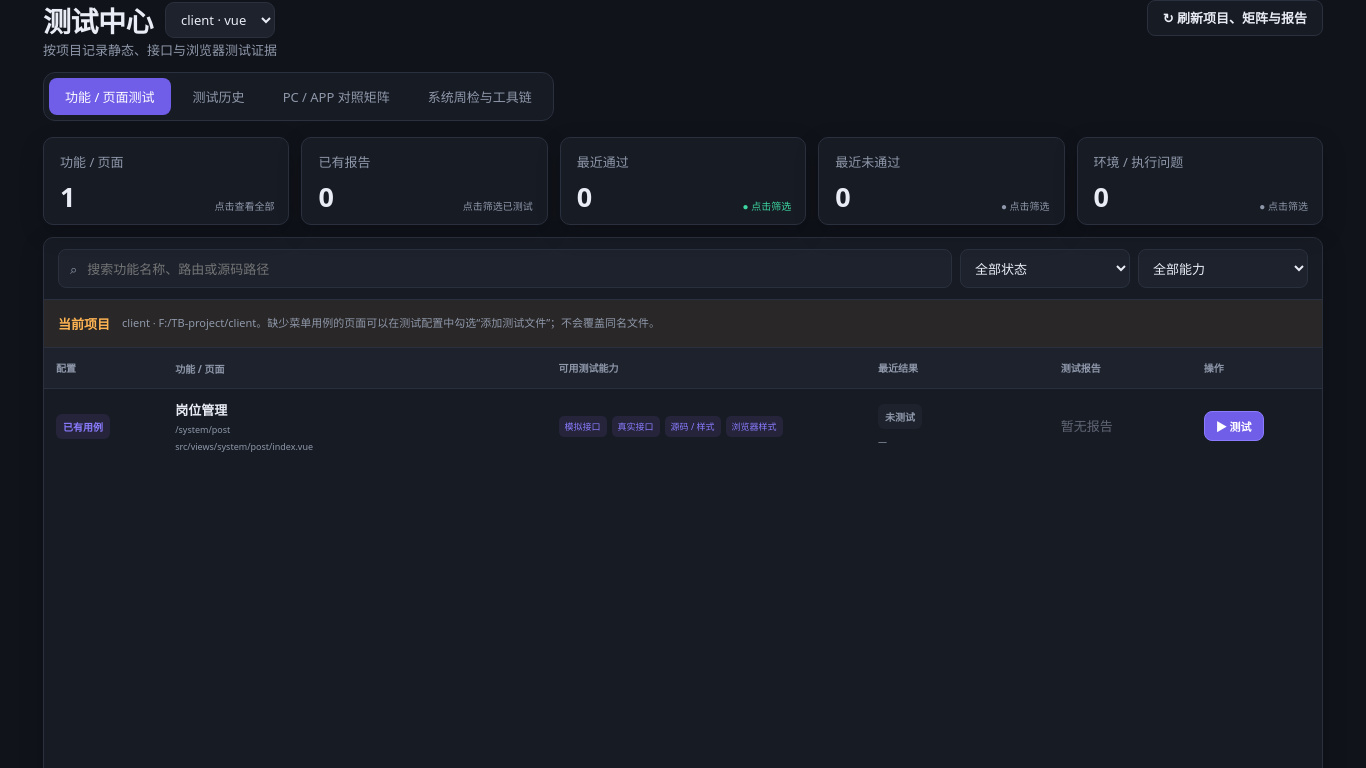
Test: TestingView 专属用例后台生成 › 点击生成后立即关闭弹框，页面仍可继续操作
The width and height of the screenshot is (1366, 768).
Click the button "▶ 测试" at coordinates (1234, 426), box [1204,411,1264,441]
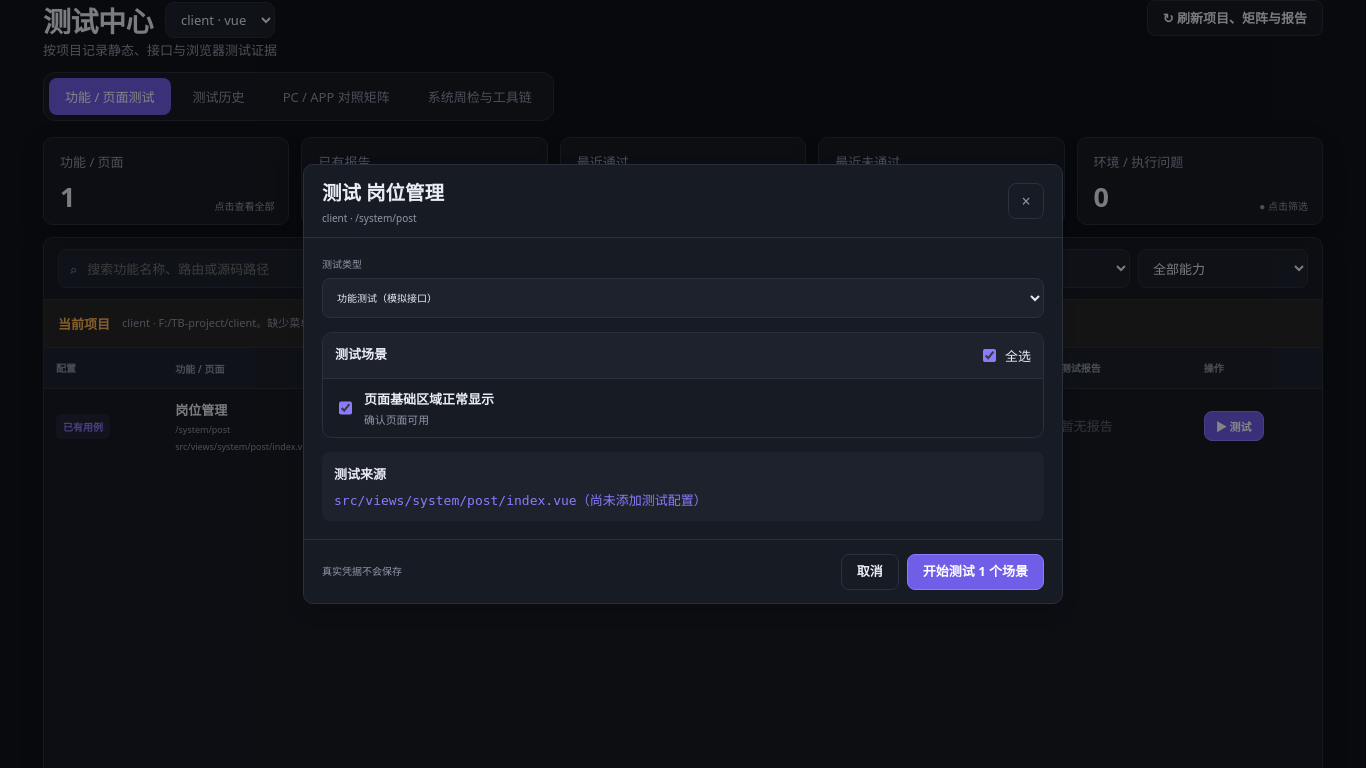
Select "功能测试（真实接口）" in the dropdown labelled "测试类型" at coordinates (683, 298), box [322,278,1044,318]
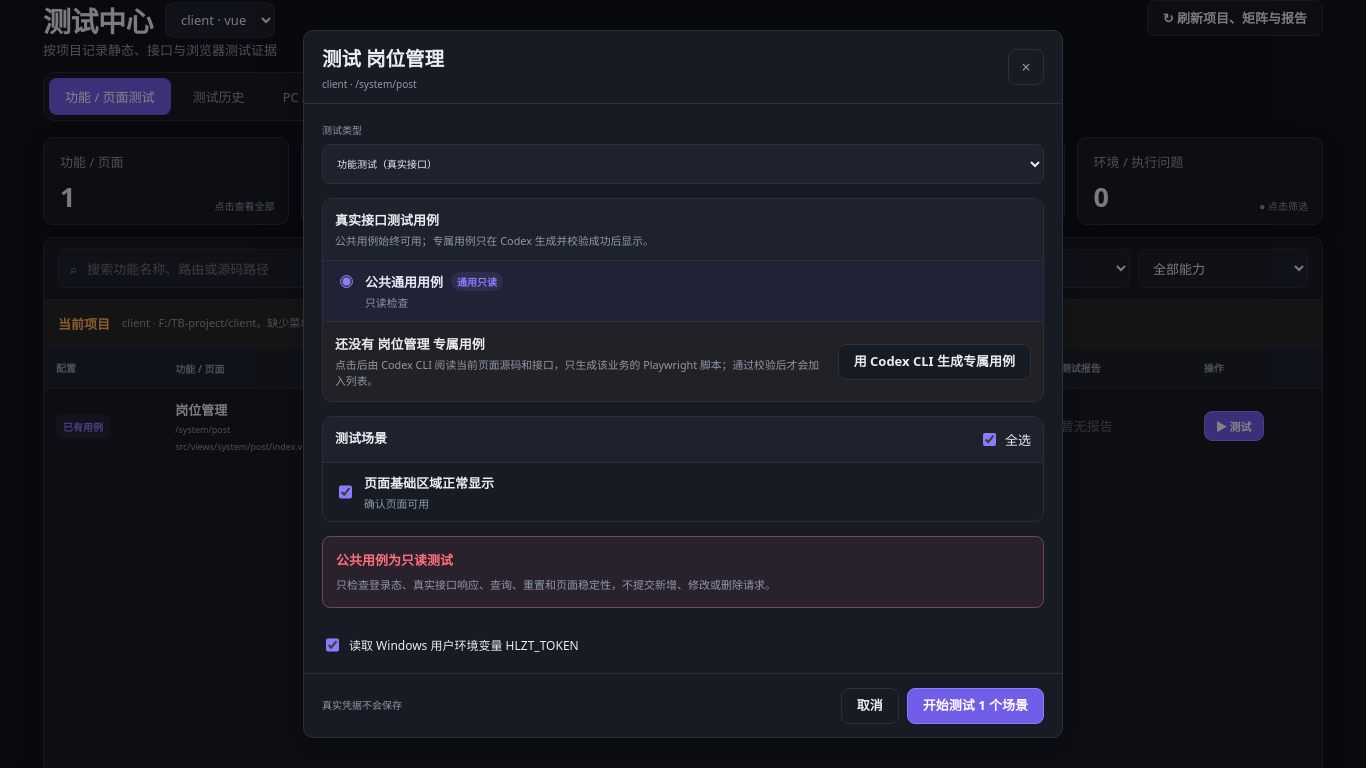
Now the element with class "dedicated-case-empty" is shown, box [323,321,1043,401]
Click the button "用 Codex CLI 生成专属用例" at coordinates (934, 362), box [838,344,1031,380]
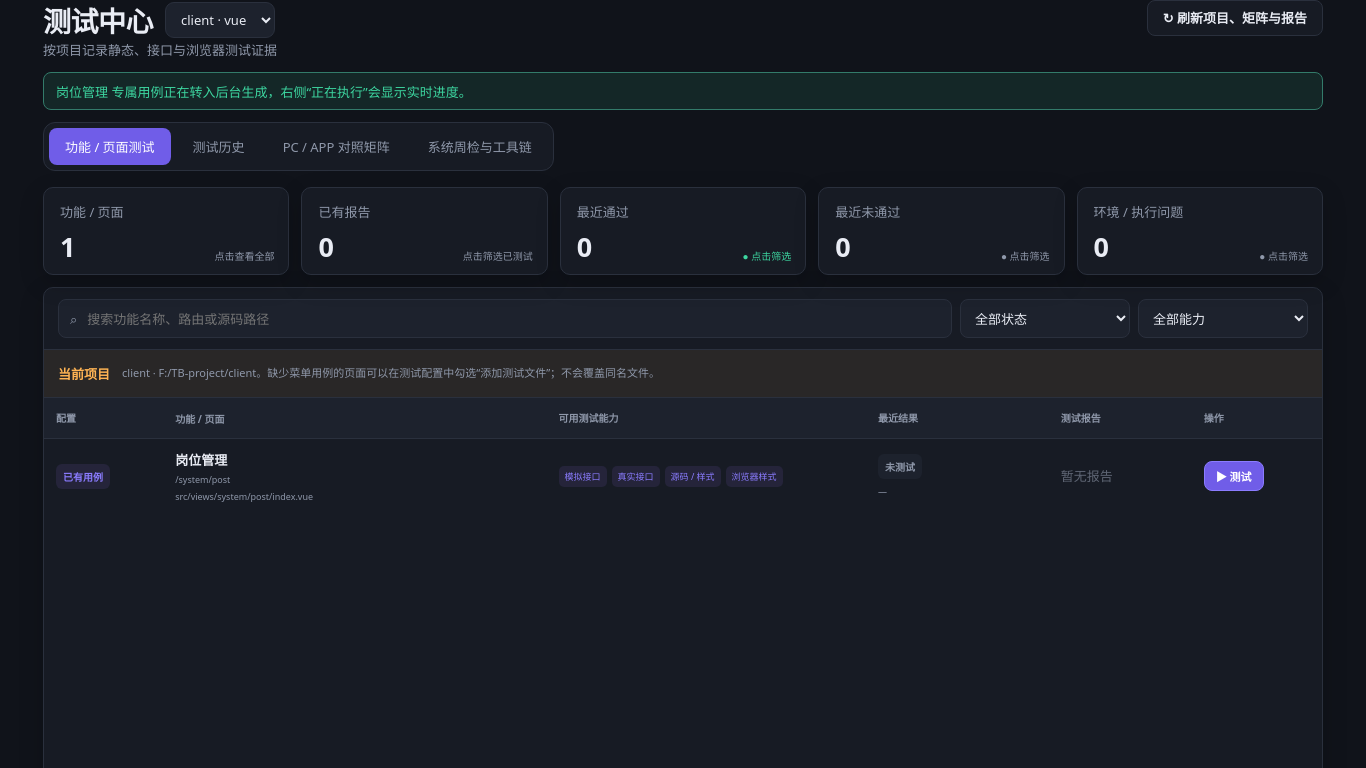
Expected: the button "功能 / 页面测试" is enabled, [49,128,171,165]
Now the text "右侧“正在执行”会显示实时进度" is shown, box [56,82,472,100]
